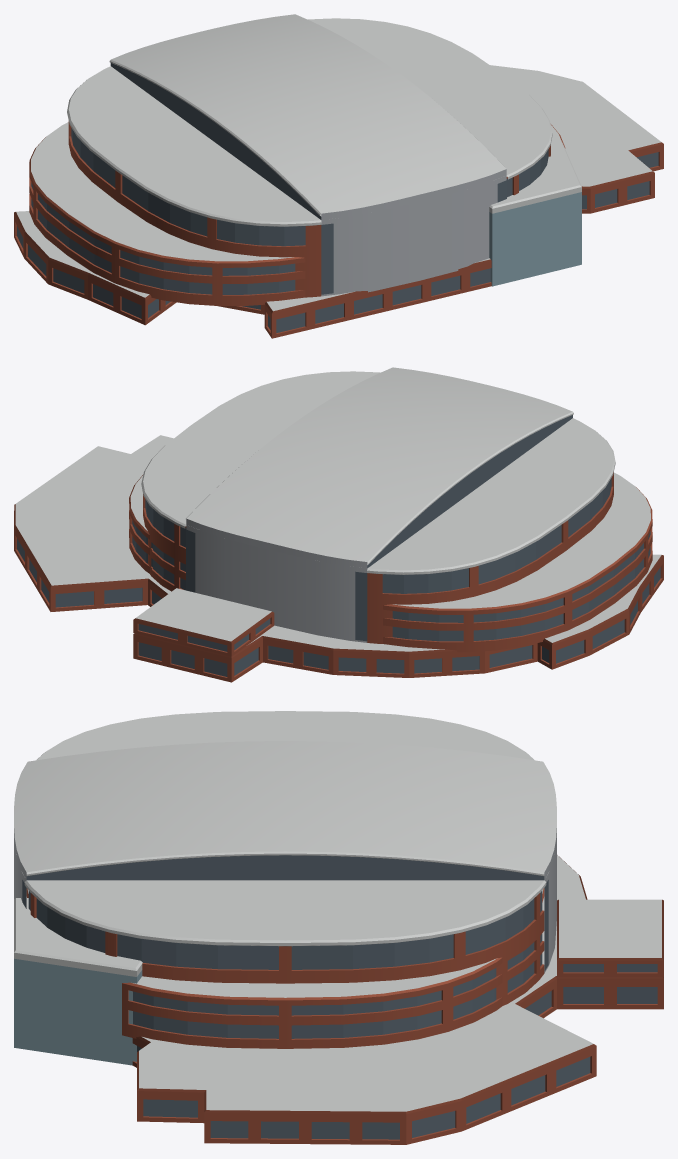
Rendered from spectrum-center.glb.
The picture shows the model from 3 angles, top to bottom: view 1: azimuth 30°, elevation 25°; view 2: azimuth 150°, elevation 25°; view 3: azimuth 270°, elevation 25°; orthographic projection. The views are drawn at different scales.
Visible parts, largest first — view 1: Spectrum Center; view 2: Spectrum Center; view 3: Spectrum Center.
Boxes of the visible parts, x1=… form: Spectrum Center: x1=14, y1=14, x2=663, y2=338; Spectrum Center: x1=14, y1=367, x2=663, y2=682; Spectrum Center: x1=14, y1=711, x2=663, y2=1144.
Bounding box in the file's own units: 208 × 43.8 × 164.
